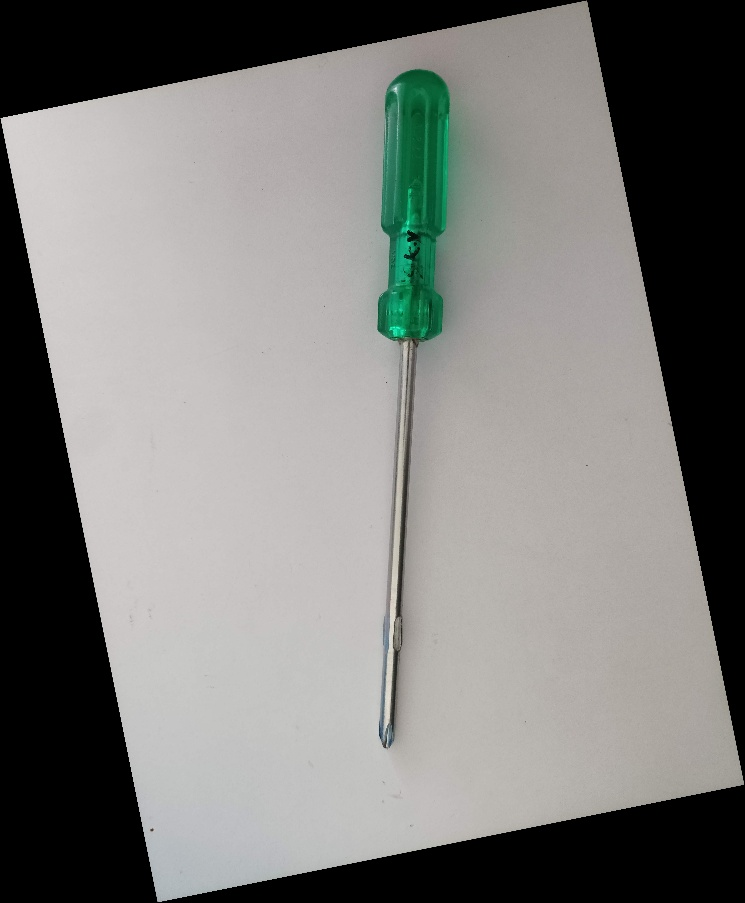screwdriver: (374, 66, 454, 752)
